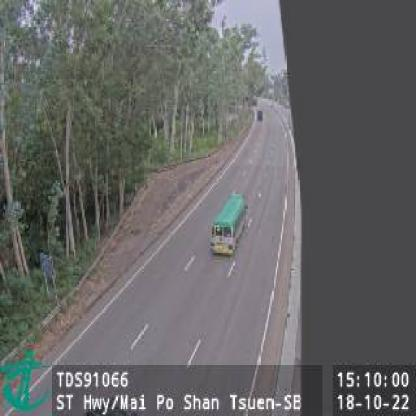Minibus: (210, 196, 247, 258)
